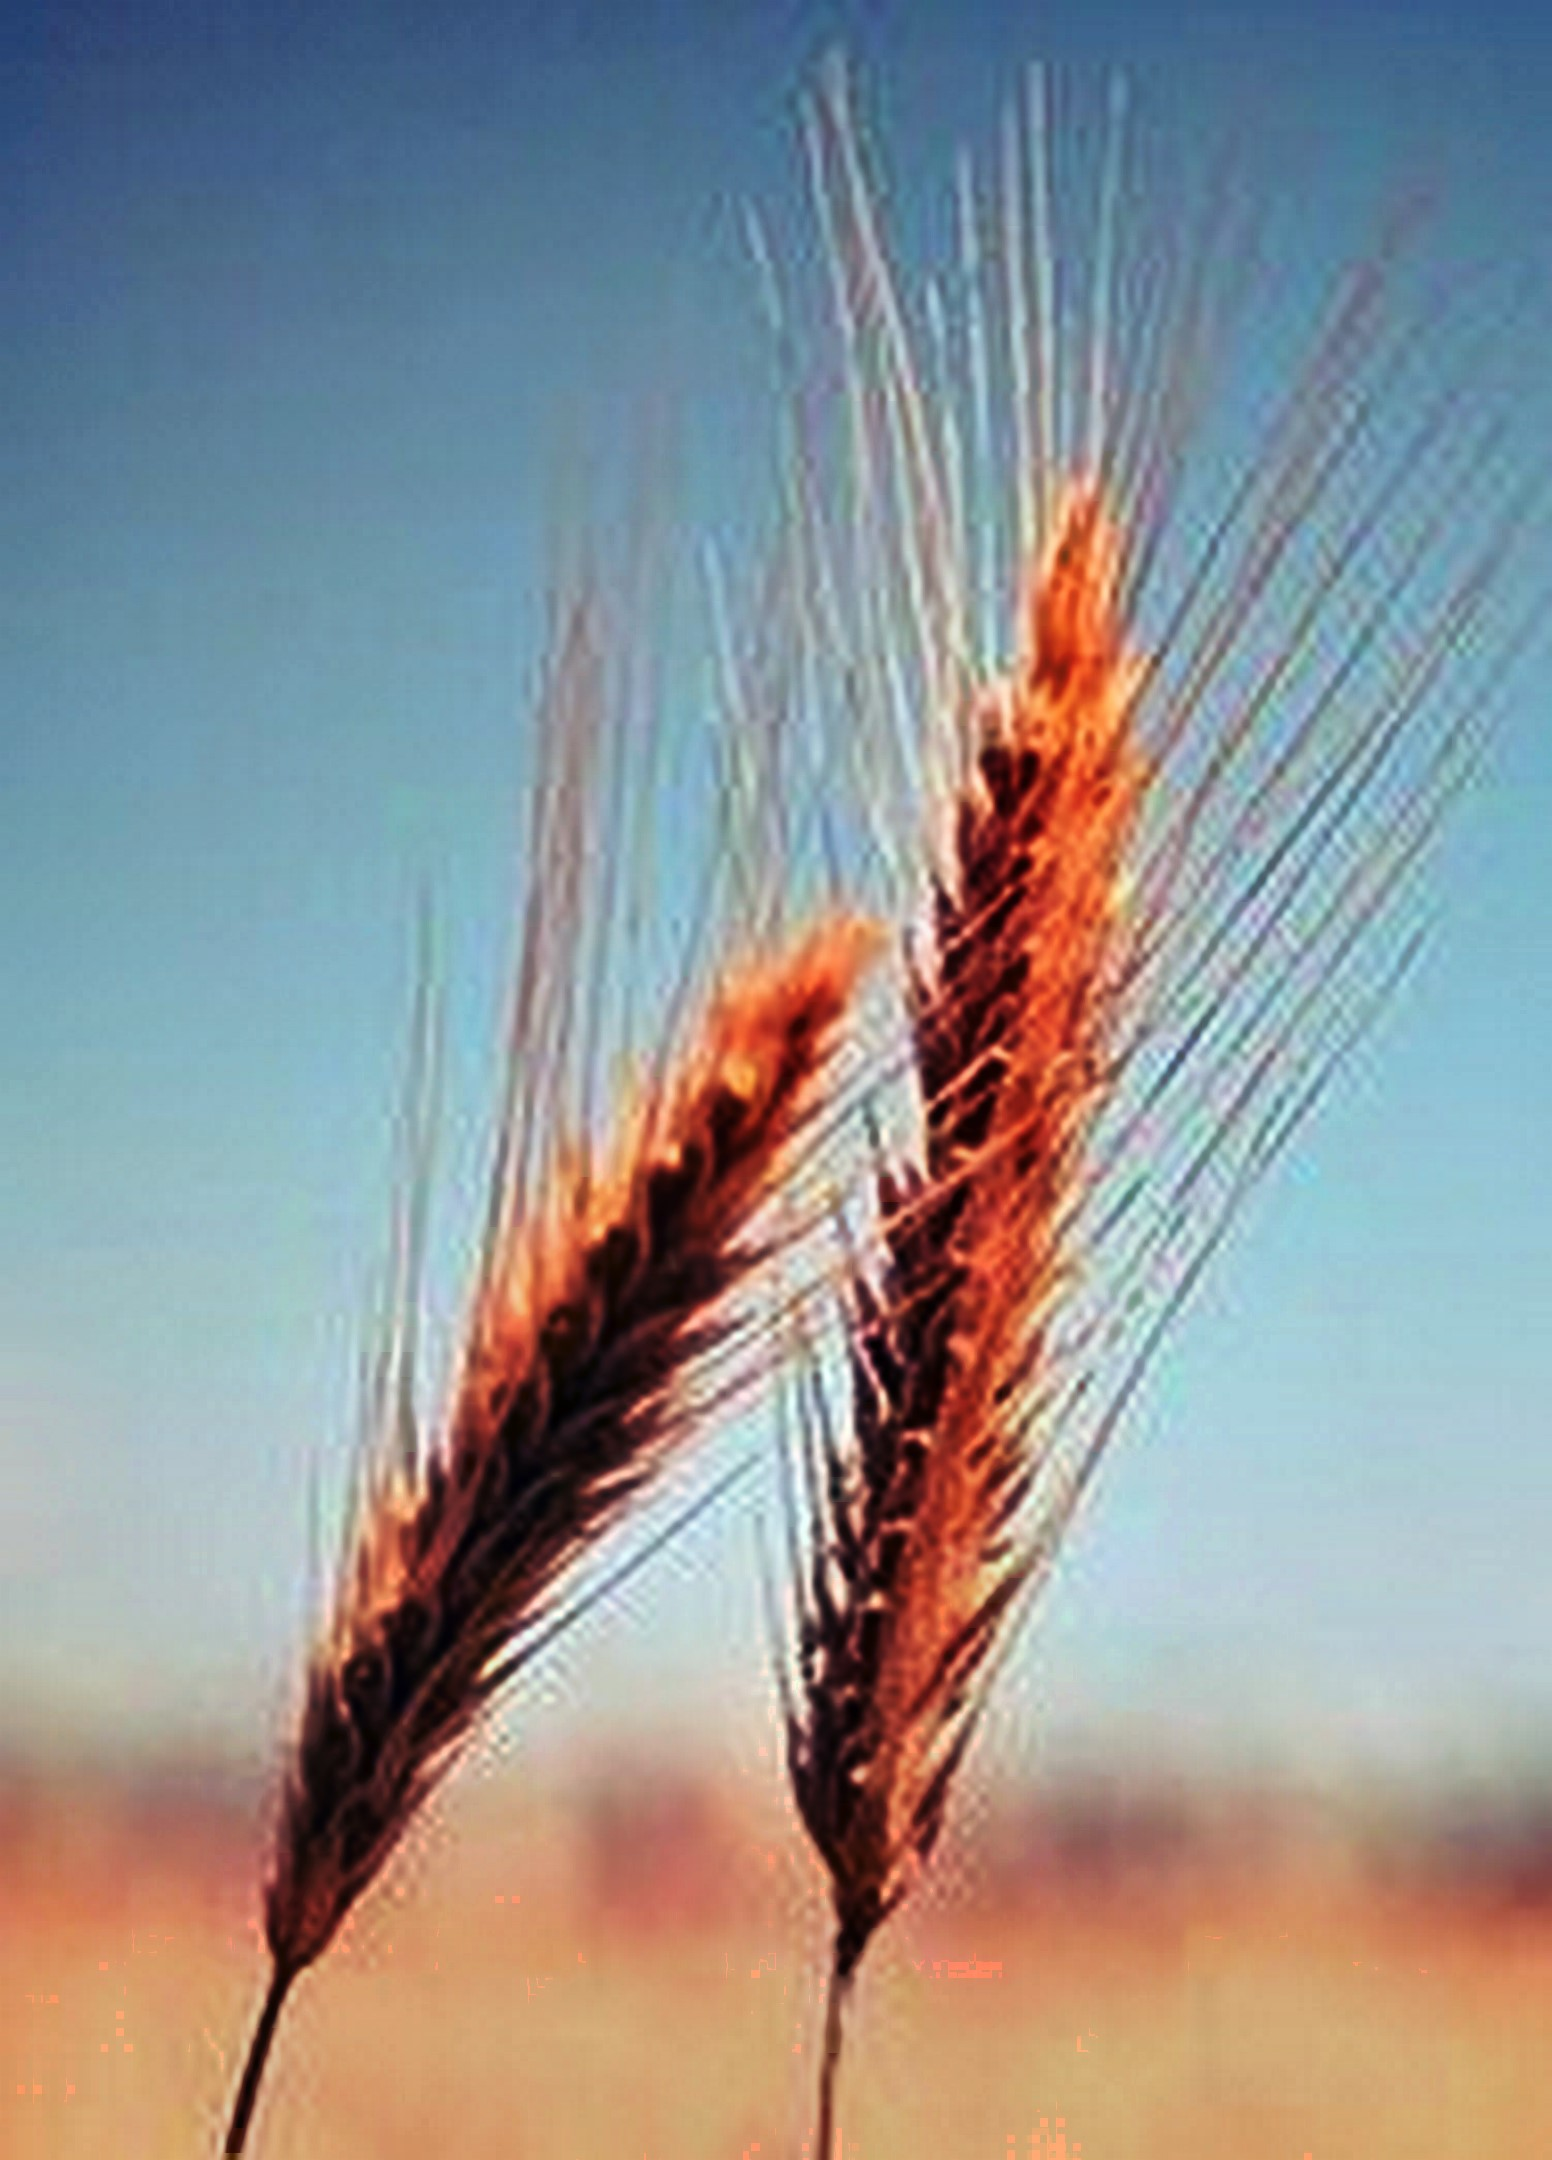Healthy Wheat: (240, 894, 878, 1942)
